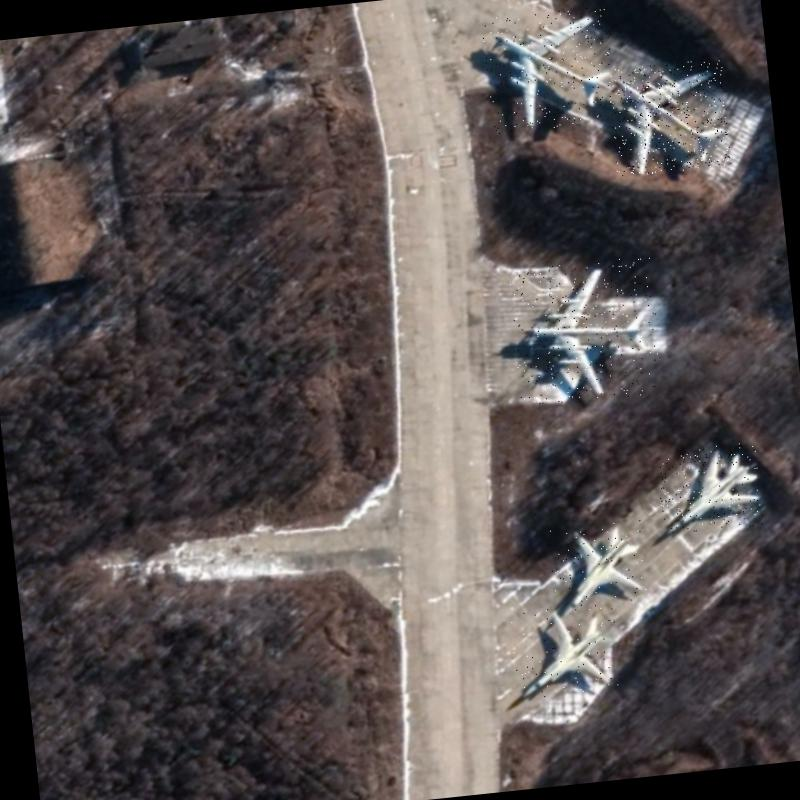A12: (506, 602, 622, 700), (655, 441, 764, 535), (547, 520, 650, 619)
A17: (507, 255, 664, 408), (481, 5, 617, 134), (606, 58, 732, 178)
